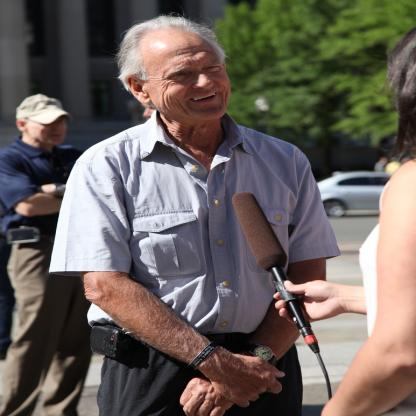Car: (317, 168, 395, 219)
